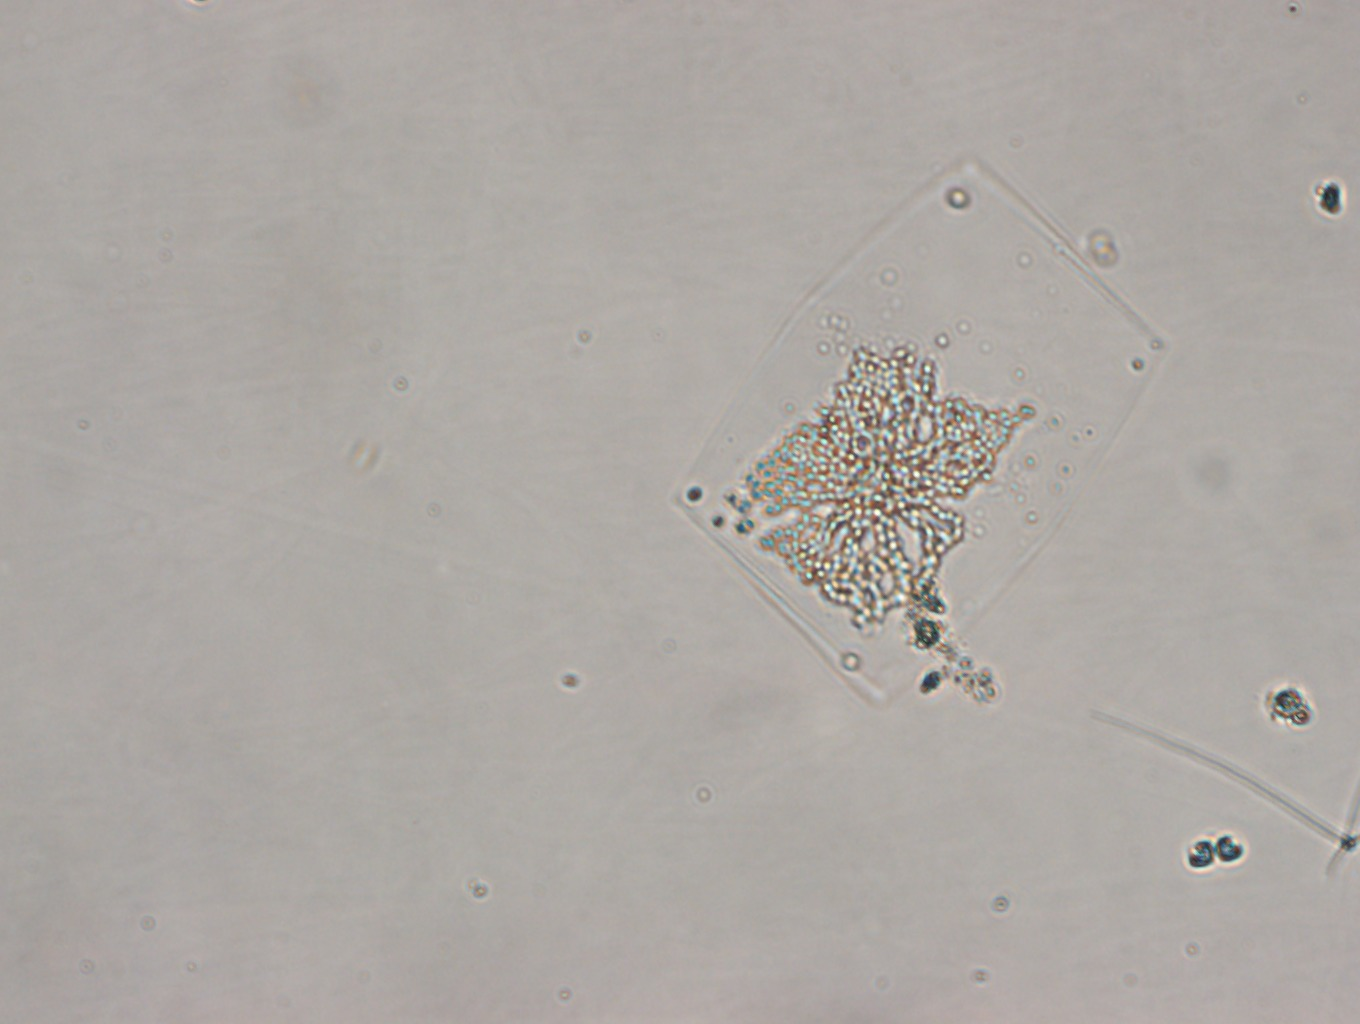helicotheca: (662, 142, 1166, 708)
